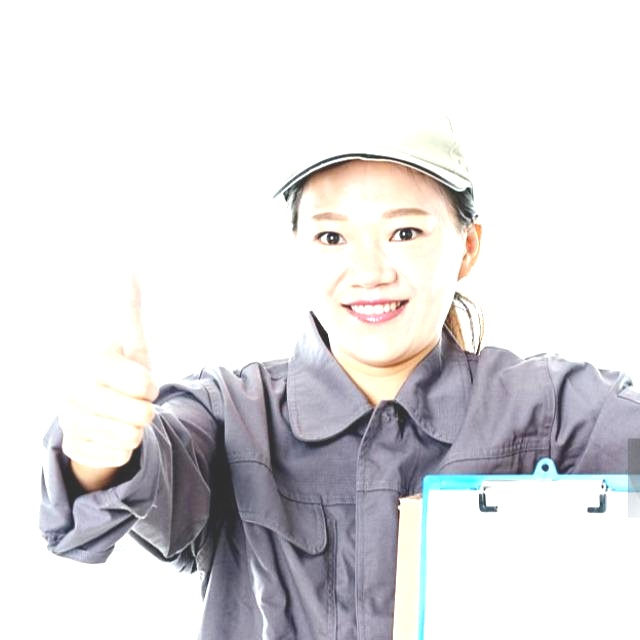Sin_Casco_Mascarrilla: (276, 80, 481, 365)
